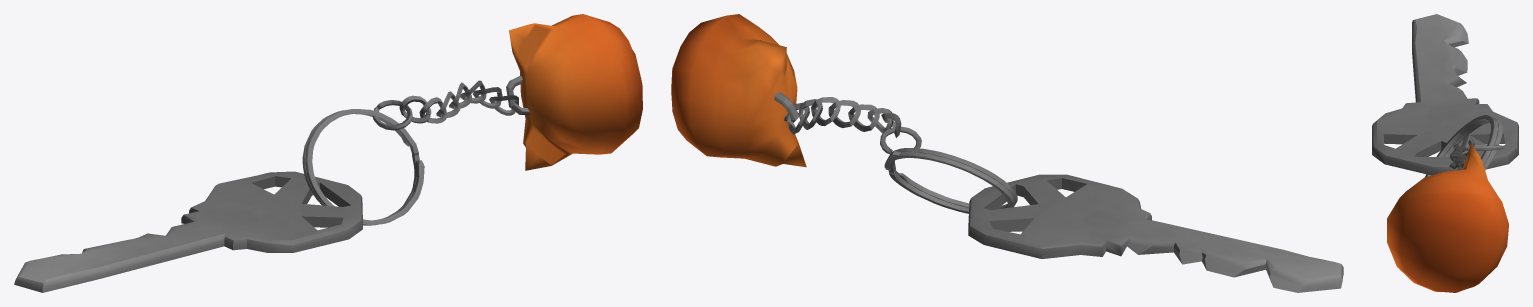
Rendered from SM_Key.fbx.
3 views of the same model, side by side, from view 1: azimuth 30°, elevation 25°; view 2: azimuth 150°, elevation 25°; view 3: azimuth 270°, elevation 25° (orthographic). The views are drawn at different scales.
Visible parts, largest first — view 1: polySurface881; view 2: polySurface881; view 3: polySurface881.
Boxes of the visible parts, x1=… form: polySurface881: x1=14, y1=14, x2=642, y2=292; polySurface881: x1=671, y1=14, x2=1343, y2=292; polySurface881: x1=1372, y1=14, x2=1518, y2=292.
Bounding box in the file's own units: 41.3 × 8.93 × 9.16.
